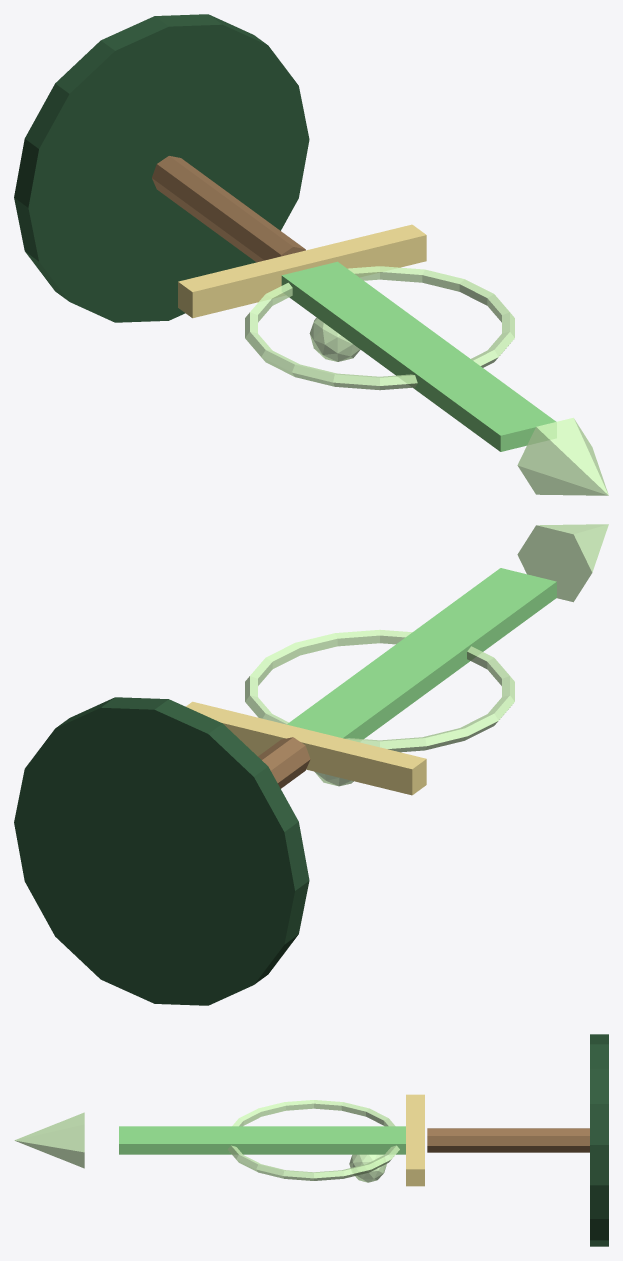
Rendered from 03_high_tier_magic_weapon.glb.
3 views of the same model, one above another, from view 1: azimuth 30°, elevation 25°; view 2: azimuth 150°, elevation 25°; view 3: azimuth 270°, elevation 25° (orthographic). The views are drawn at different scales.
Visible parts, largest first — view 1: weapon_display_base, magic_blade_or_staff_core, relic_guard, weapon_aura_ring, weapon_grip, weapon_tip, socketed_gem; view 2: weapon_display_base, magic_blade_or_staff_core, relic_guard, weapon_aura_ring, weapon_tip, weapon_grip; view 3: magic_blade_or_staff_core, weapon_grip, weapon_display_base, weapon_aura_ring, weapon_tip, relic_guard, socketed_gem.
Part boxes in pixels (x1,y1,x2,y2): weapon_display_base: (14, 14, 309, 322); magic_blade_or_staff_core: (281, 261, 556, 451); relic_guard: (178, 224, 426, 318); weapon_aura_ring: (245, 266, 514, 390); weapon_grip: (152, 156, 305, 262); weapon_tip: (517, 417, 608, 495); socketed_gem: (309, 317, 360, 361); weapon_display_base: (14, 697, 309, 1005); magic_blade_or_staff_core: (287, 568, 556, 741); relic_guard: (186, 701, 426, 795); weapon_aura_ring: (245, 629, 514, 752); weapon_tip: (517, 524, 608, 602); weapon_grip: (258, 737, 310, 788); magic_blade_or_staff_core: (119, 1126, 405, 1154); weapon_grip: (427, 1128, 589, 1152); weapon_display_base: (590, 1034, 608, 1246); weapon_aura_ring: (227, 1100, 399, 1180); weapon_tip: (14, 1112, 84, 1168); relic_guard: (406, 1094, 424, 1186); socketed_gem: (349, 1154, 386, 1182).
Size of the model in its own units: 0.9 by 0.9 by 2.52.
